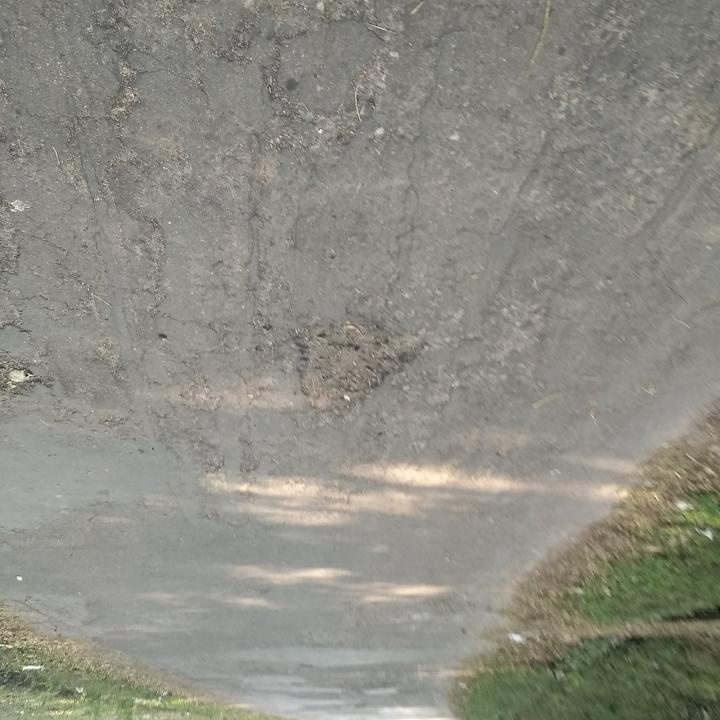pothole: (285, 309, 432, 424), (0, 351, 58, 400)
